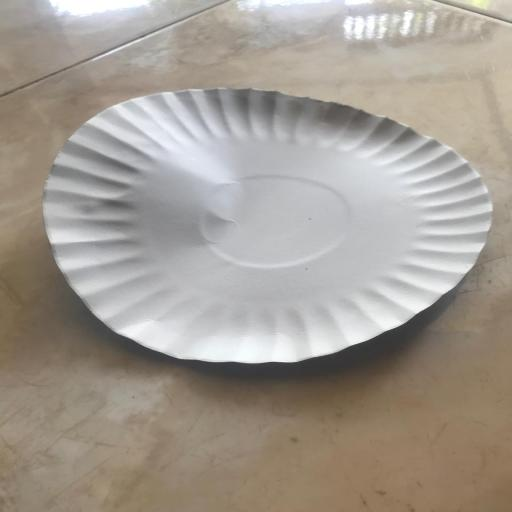waste: (36, 79, 501, 372)
